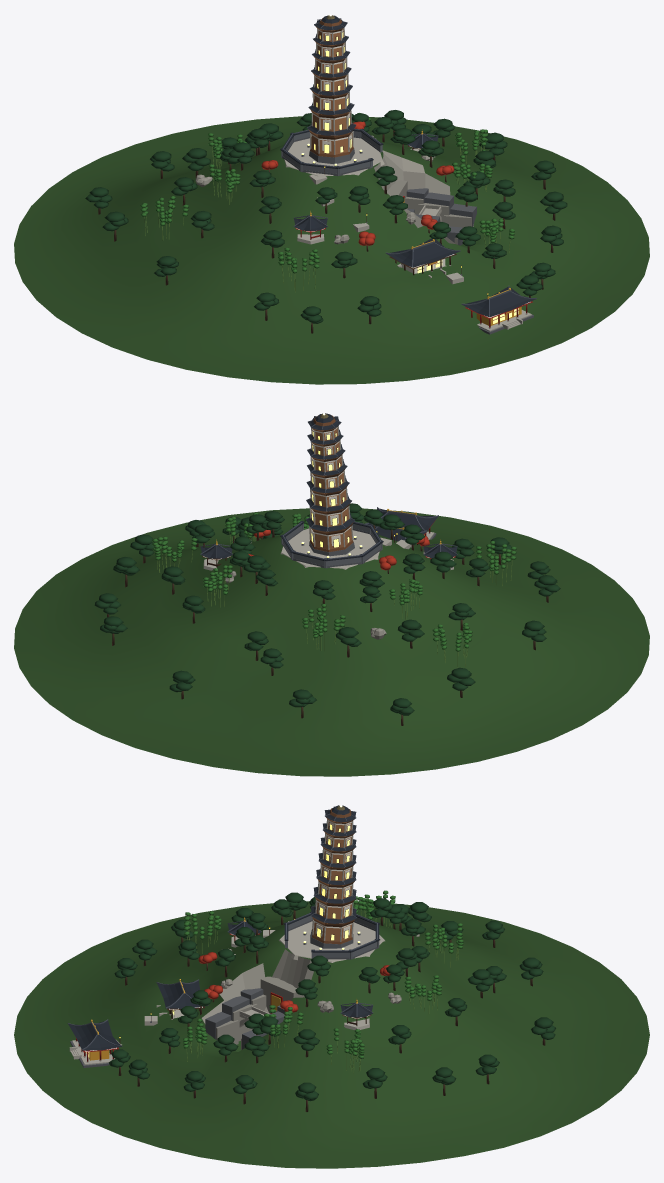
File: tiger_hill.glb
3 views of the same model, one above another, from view 1: azimuth 30°, elevation 25°; view 2: azimuth 150°, elevation 25°; view 3: azimuth 270°, elevation 25° (orthographic).
Visible parts, largest first — view 1: TigerHill; view 2: TigerHill; view 3: TigerHill.
Boxes of the visible parts, box(x1,y1,x2,y2) form: TigerHill: box(14, 14, 649, 384); TigerHill: box(14, 413, 649, 776); TigerHill: box(14, 805, 649, 1168).
Size of the model in its own units: 204 by 81.86 by 204.
